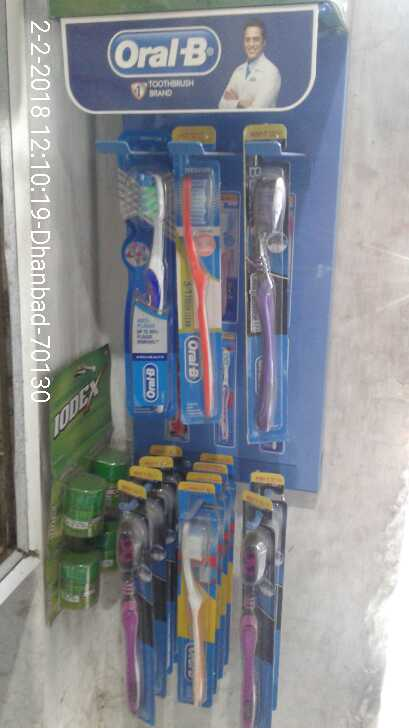oralb: (111, 170, 177, 407), (104, 497, 164, 716), (238, 172, 286, 442), (170, 169, 214, 429), (233, 532, 271, 728), (184, 516, 208, 705)
